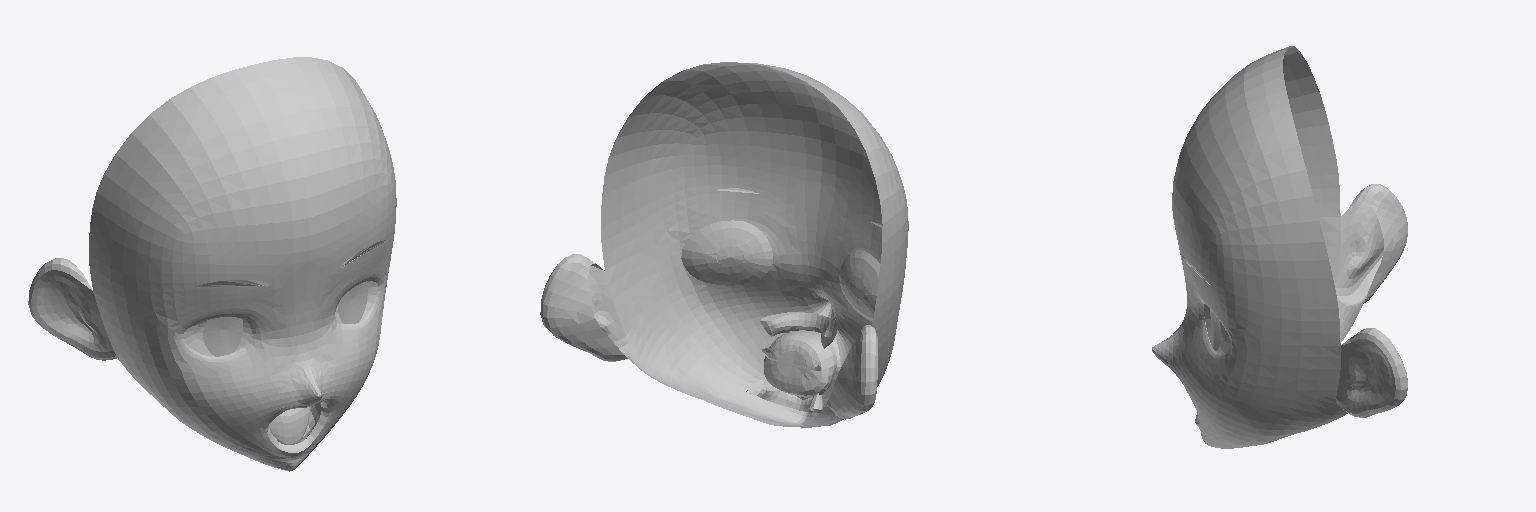
The model's file is jawOpen.obj.
3 renders of one model, left to right at view 1: azimuth 30°, elevation 25°; view 2: azimuth 150°, elevation 25°; view 3: azimuth 270°, elevation 25°, orthographic.
Parts seen in each view (by area): view 1: Face; view 2: Face; view 3: Face.
Part boxes in pixels (left/top/right/bottom): Face: left=28, top=57, right=396, bottom=471; Face: left=540, top=62, right=908, bottom=427; Face: left=1152, top=46, right=1407, bottom=448.
Size of the model in its own units: 0.2176 by 0.2373 by 0.1449.